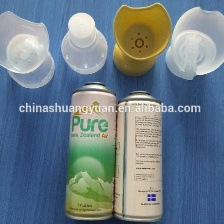aerosol_cans: (61, 78, 117, 224), (109, 86, 167, 224)
